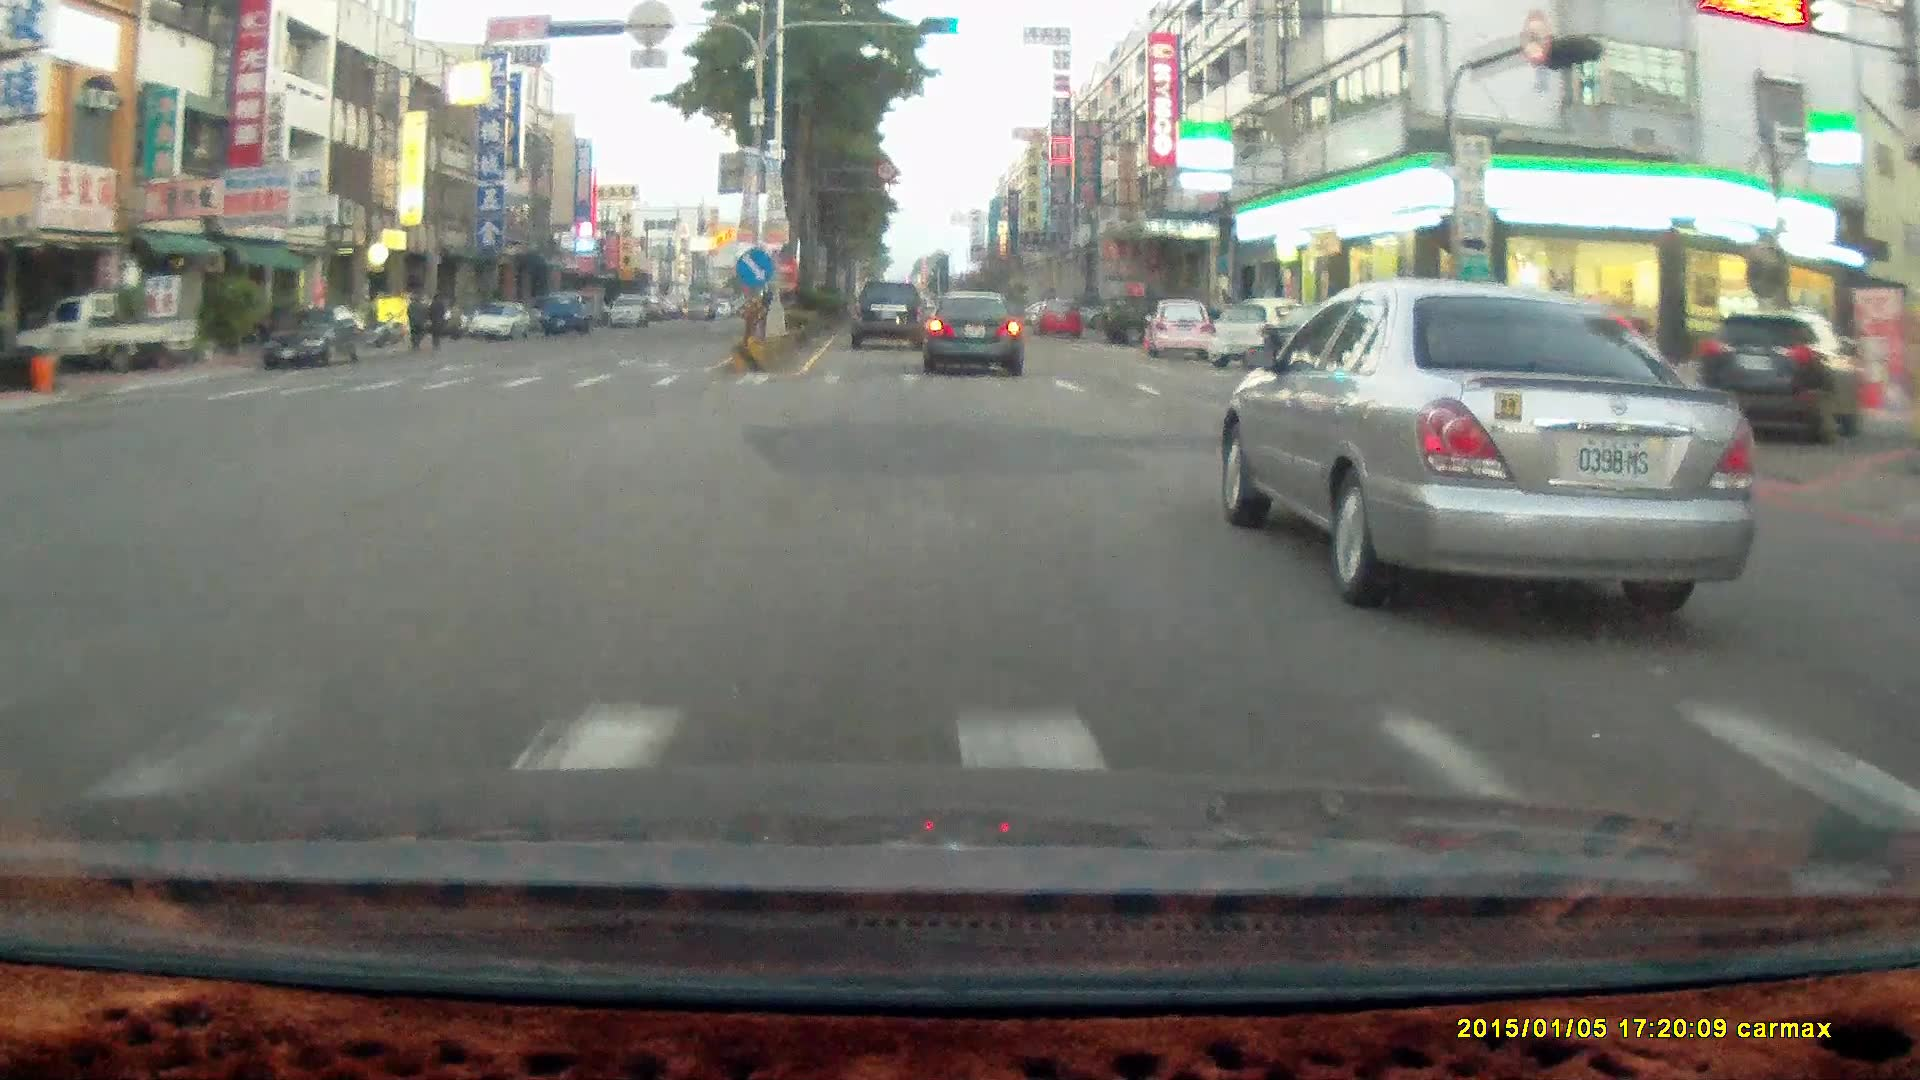pedestrian: (424, 284, 451, 350), (403, 289, 426, 352), (425, 291, 447, 353), (404, 291, 424, 355)
vehicle: (1227, 285, 1762, 603), (1703, 311, 1864, 444), (14, 293, 197, 374), (31, 299, 188, 383), (1269, 300, 1407, 386), (924, 295, 1027, 378), (923, 289, 1021, 372), (1205, 297, 1320, 367), (258, 308, 370, 373), (260, 308, 365, 369), (849, 280, 930, 352), (849, 279, 926, 349), (1143, 300, 1217, 362), (1143, 299, 1214, 360), (1103, 295, 1180, 347), (468, 302, 533, 344), (539, 294, 593, 338), (467, 304, 530, 341), (539, 288, 586, 335), (1034, 294, 1080, 332), (607, 292, 650, 326)
